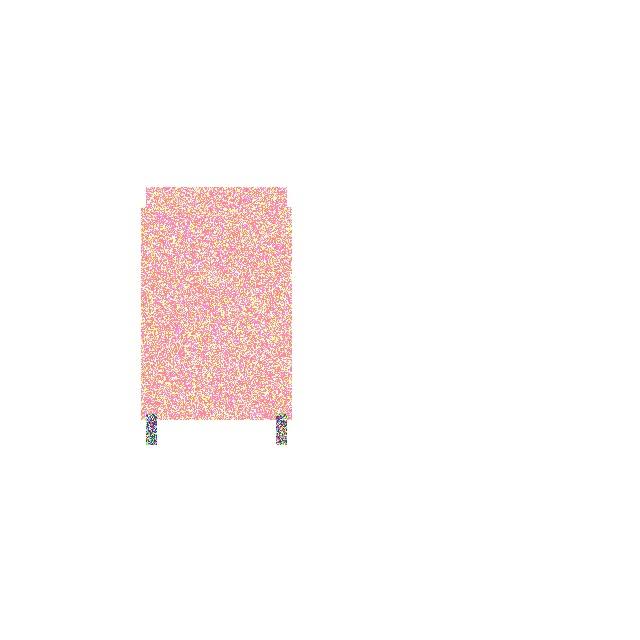Chaise: (141, 207, 291, 420)
